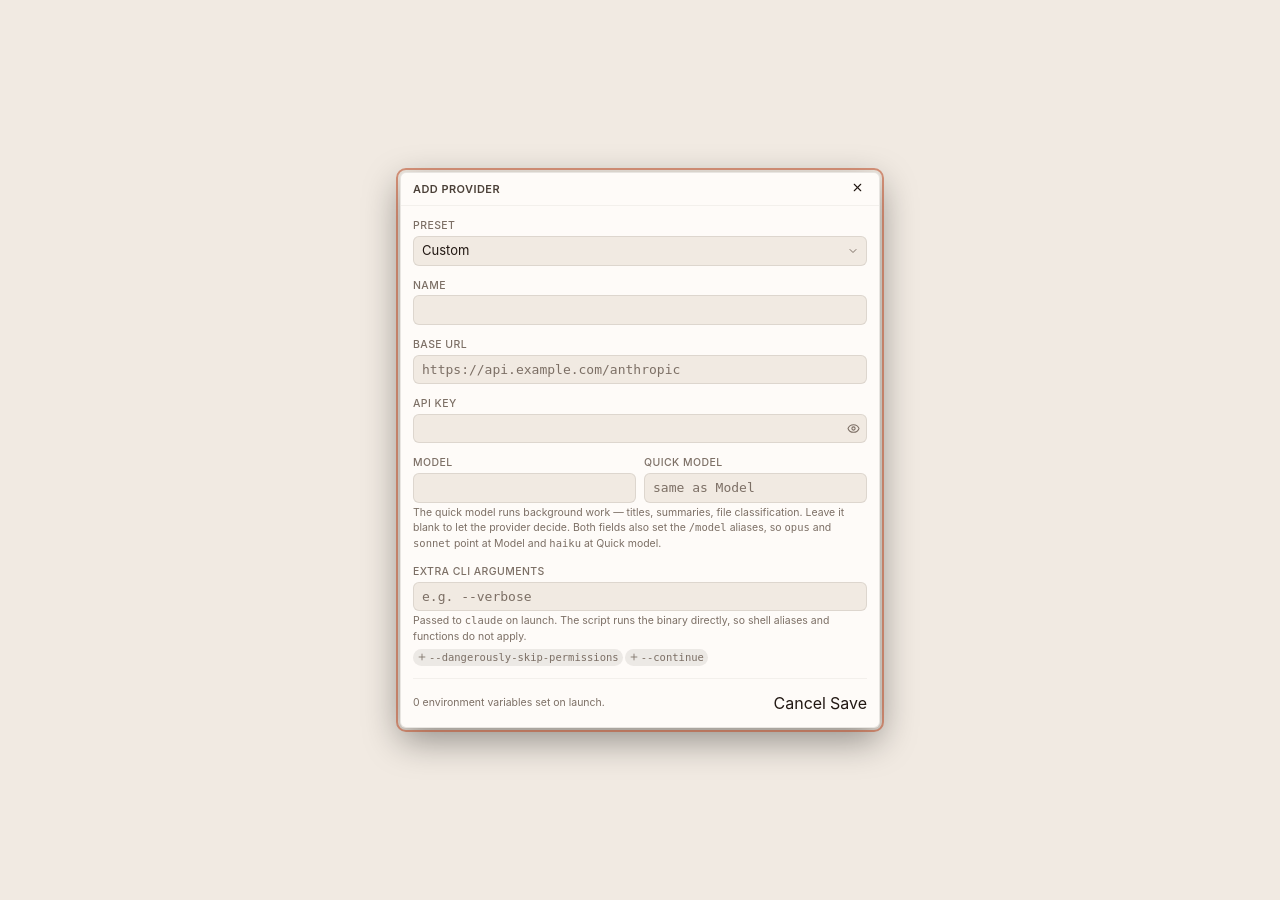
it: ProviderForm › prefills base URL and model when a preset is chosen
Select "GLM (z.ai)" in the dropdown labelled "Preset" at {"x": 640, "y": 251}, box [413, 236, 867, 266]
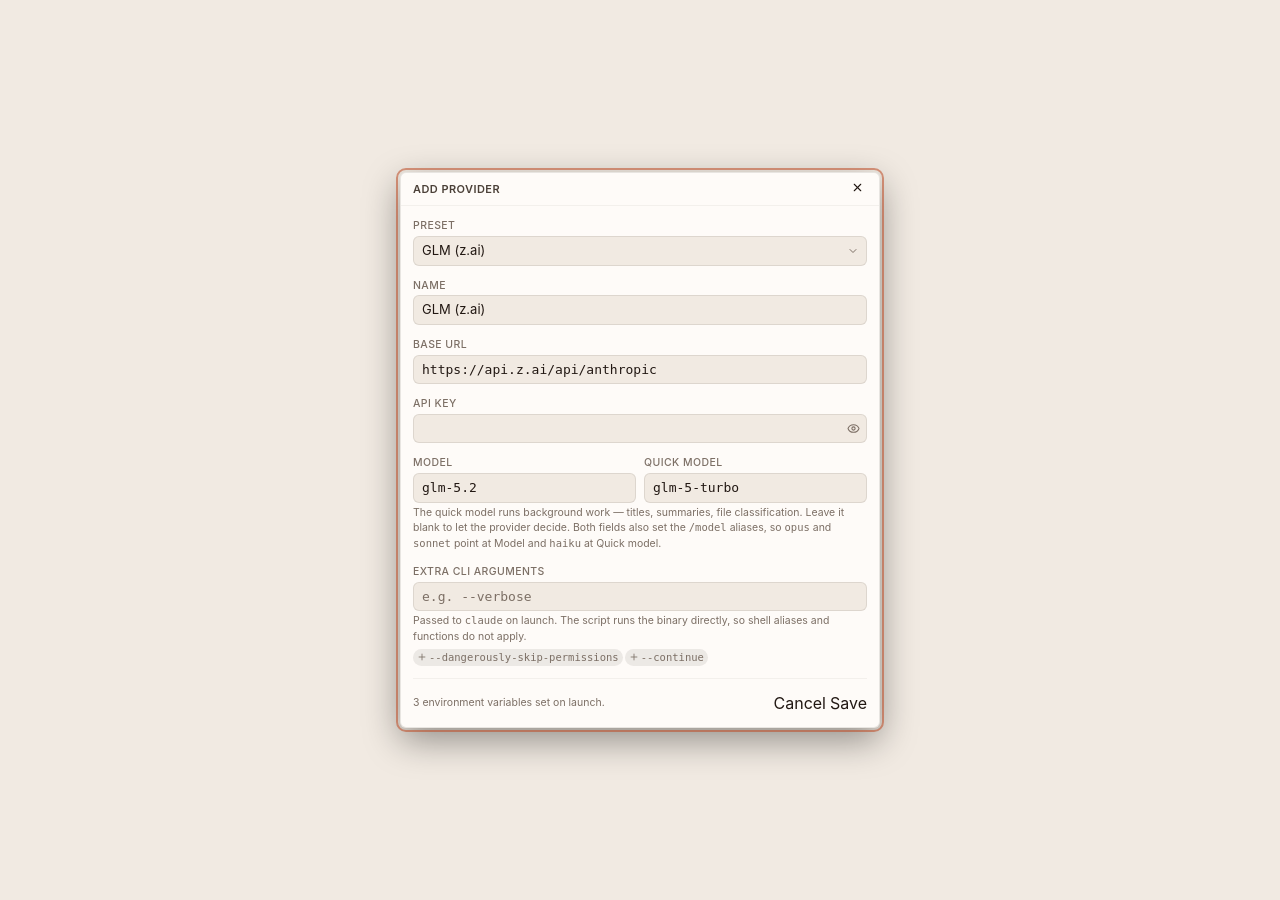
Check: the field labelled "Base URL" holds "https://api.z.ai/api/anthropic", box [413, 354, 867, 384]
Check: the field labelled "Model" holds "glm-5.2", box [413, 473, 636, 502]
